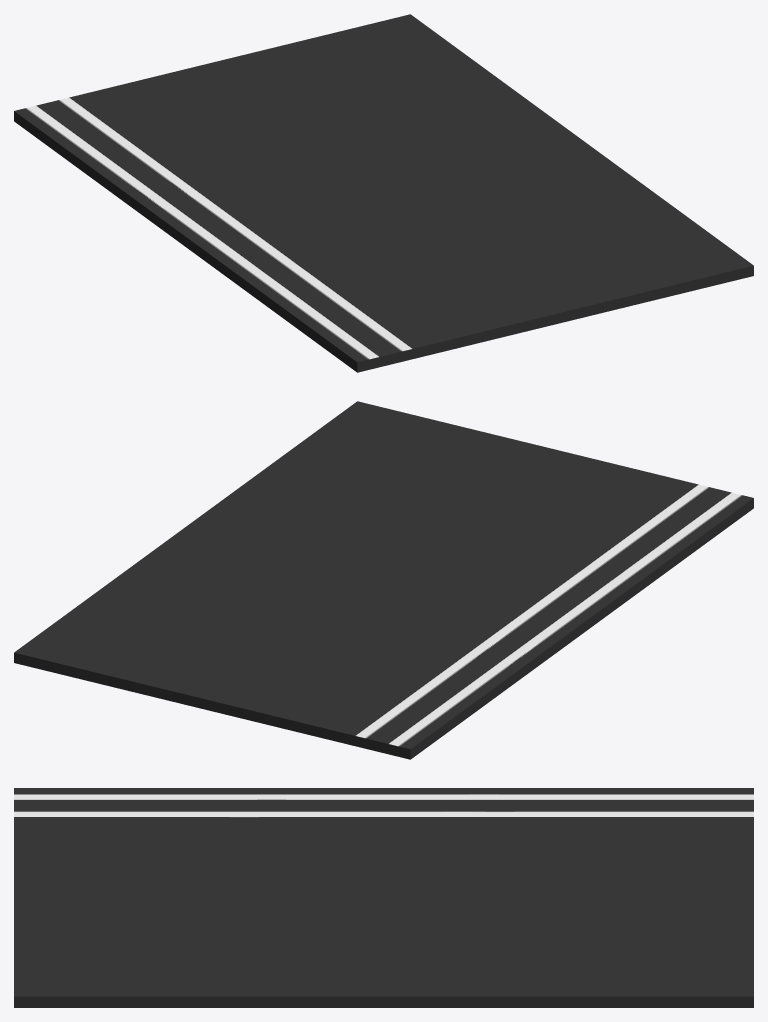
The model's file is Road_Edge.fbx.
3 views of the same model, one above another, from view 1: azimuth 30°, elevation 25°; view 2: azimuth 150°, elevation 25°; view 3: azimuth 270°, elevation 25° (orthographic). The views are drawn at different scales.
Parts seen in each view (by area): view 1: plainRoad3; view 2: plainRoad3; view 3: plainRoad3.
Boxes of the visible parts, x1,y1,x2,y2 form: plainRoad3: [14, 14, 753, 372]; plainRoad3: [14, 401, 753, 759]; plainRoad3: [14, 788, 753, 1007].
Size of the model in its own units: 2 by 0.05 by 3.
Materials: 1 (1 with a texture image).
